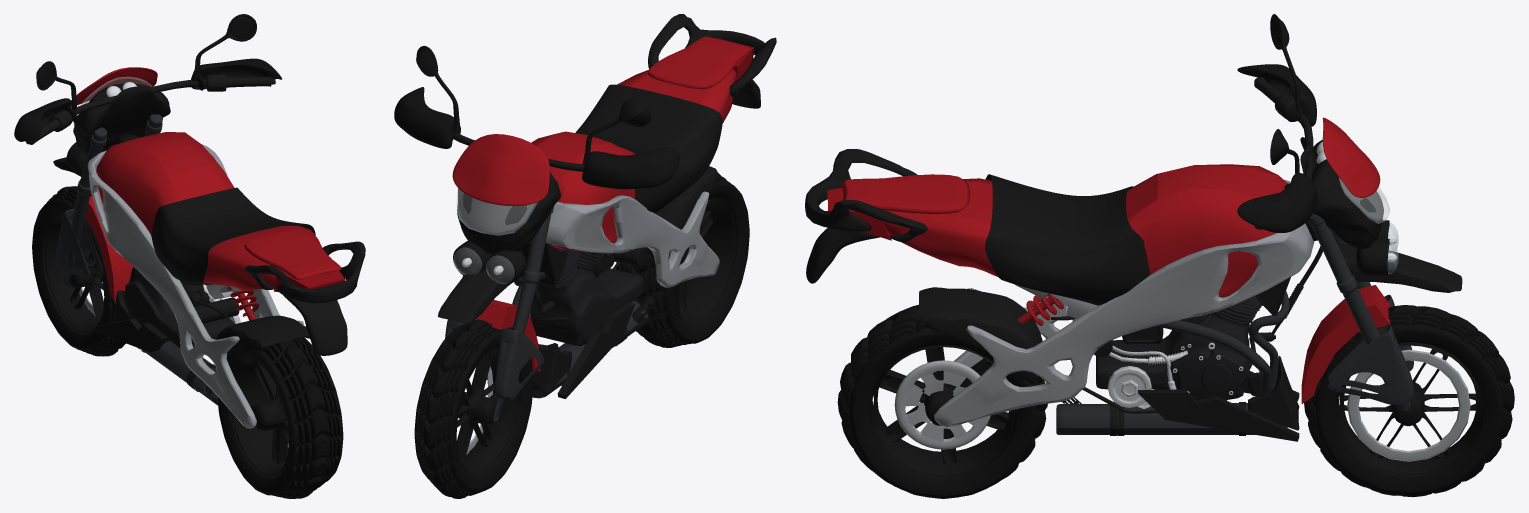
The model's file is buell.glb.
3 renders of one model, left to right at view 1: azimuth 30°, elevation 25°; view 2: azimuth 150°, elevation 25°; view 3: azimuth 270°, elevation 25°, orthographic. The views are drawn at different scales.
Parts seen in each view (by area): view 1: polySurface540, polySurface552, polySurface562, polySurface559, polySurface553, polySurface556, polySurface566, polySurface542, polySurface569, polySurface565, polySurface555, polySurface563 (+22 smaller); view 2: polySurface553, polySurface562, polySurface559, polySurface569, polySurface540, polySurface552, polySurface548, polySurface556, polySurface566, polySurface618, polySurface542, polySurface565 (+22 smaller); view 3: polySurface562, polySurface540, polySurface559, polySurface553, polySurface552, polySurface569, polySurface555, polySurface566, polySurface556, polySurface616, polySurface565, polySurface603 (+21 smaller).
Part boxes in pixels (box(x1,y1,x2,y2)): polySurface540: box(96, 132, 321, 290); polySurface552: box(217, 337, 343, 498); polySurface562: box(87, 144, 303, 428); polySurface559: box(151, 187, 315, 285); polySurface553: box(32, 186, 125, 356); polySurface556: box(73, 83, 170, 154); polySurface566: box(244, 230, 341, 279); polySurface542: box(231, 359, 289, 475); polySurface569: box(124, 267, 234, 347); polySurface565: box(245, 241, 365, 303); polySurface555: box(216, 315, 309, 357); polySurface563: box(283, 295, 347, 355); polySurface553: box(414, 319, 533, 498); polySurface562: box(545, 191, 719, 287); polySurface559: box(575, 84, 722, 213); polySurface569: box(530, 249, 643, 346); polySurface540: box(530, 69, 736, 251); polySurface552: box(616, 173, 749, 347); polySurface548: box(452, 134, 549, 206); polySurface556: box(457, 172, 560, 254); polySurface566: box(647, 36, 751, 89); polySurface618: box(582, 147, 679, 189); polySurface542: box(673, 199, 735, 322); polySurface565: box(648, 14, 776, 98); polySurface562: box(934, 179, 1314, 426); polySurface540: box(885, 164, 1287, 297); polySurface559: box(985, 174, 1150, 305); polySurface553: box(1304, 305, 1514, 497); polySurface552: box(837, 304, 1047, 498); polySurface569: box(1096, 295, 1262, 400); polySurface555: box(919, 287, 1042, 383); polySurface566: box(841, 174, 969, 213); polySurface556: box(1300, 137, 1383, 249); polySurface616: box(894, 360, 990, 449); polySurface565: box(805, 149, 927, 242); polySurface603: box(1327, 324, 1413, 405).
Bounding box in the file's own units: 0.0432 × 0.0564 × 0.0855.
